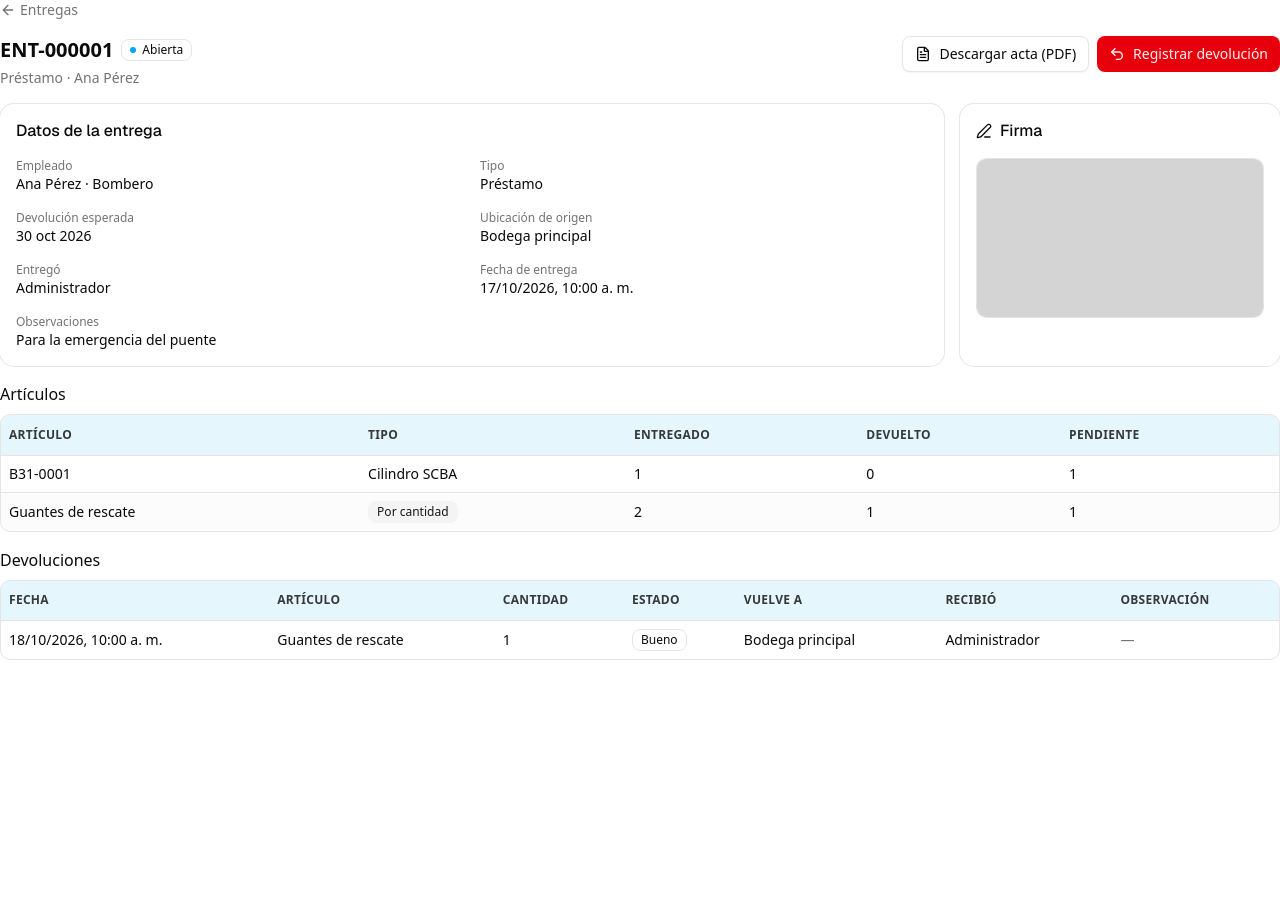
Test: DeliveryDetailScreen (/entregas/[id], 007 US2, US3) › sin artículos marcados no envía
Step 1. Click the button "Registrar devolución" → x=1189, y=54, box [1097, 36, 1279, 72]
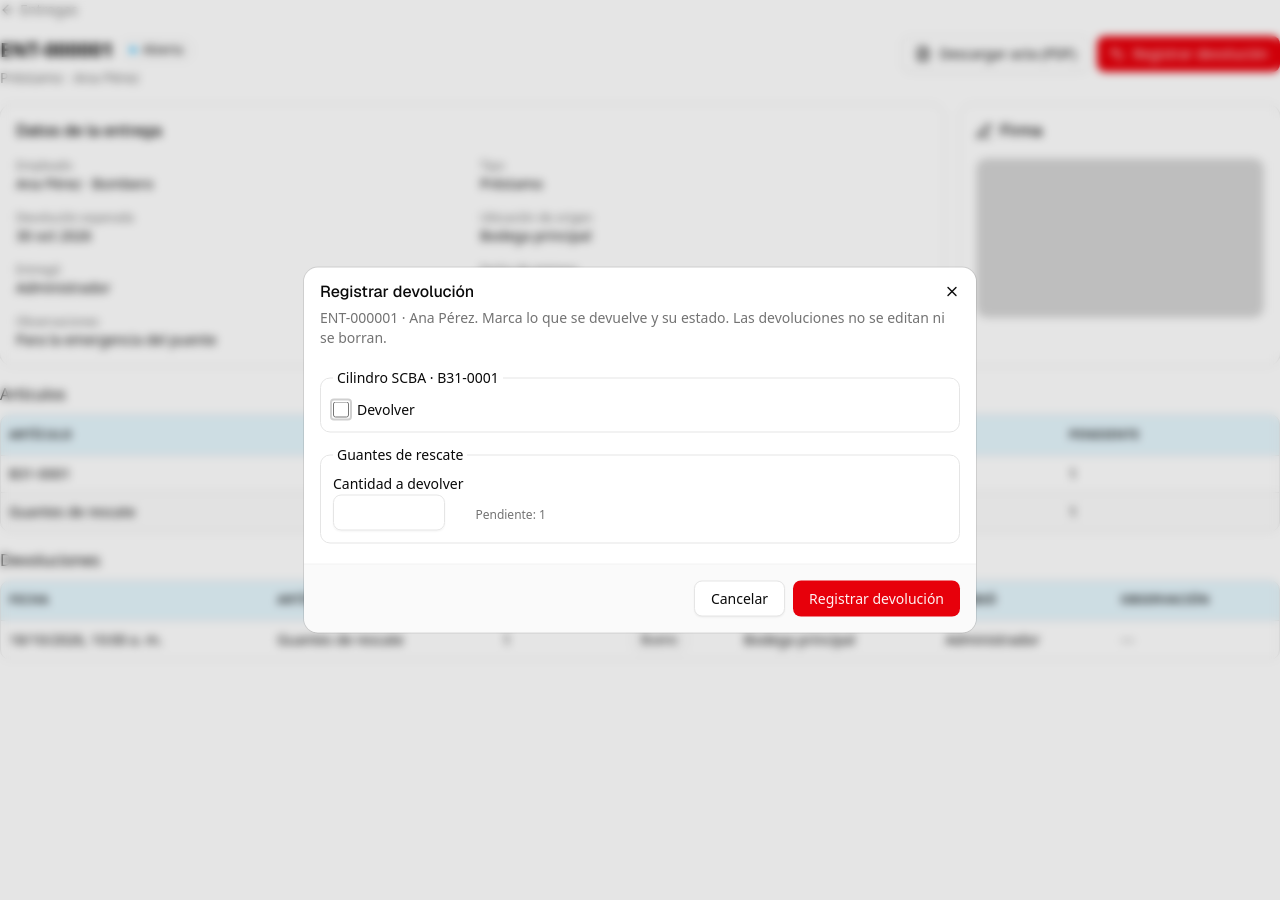
Step 2. Click the button "Registrar devolución" → x=877, y=598, box [793, 580, 960, 616]
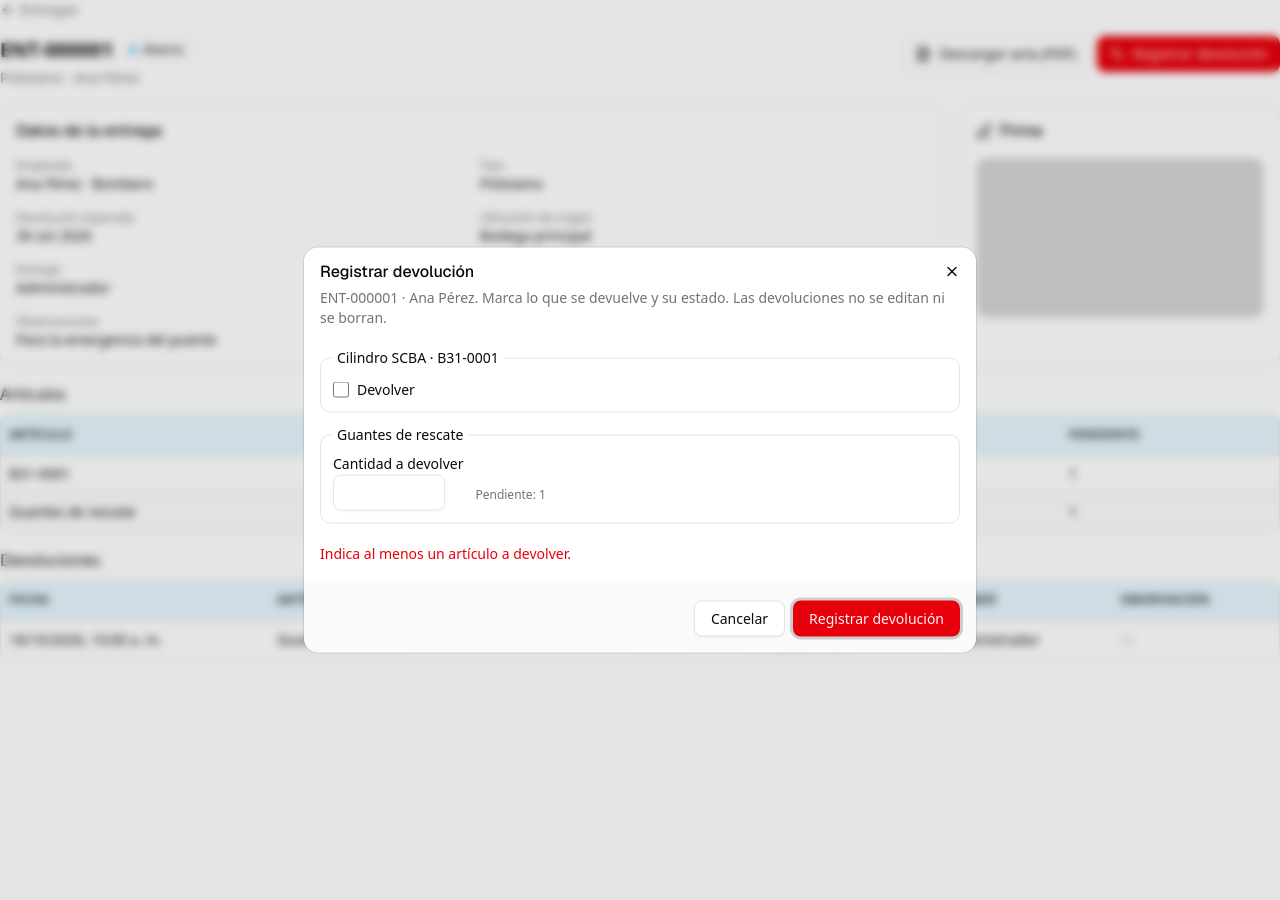
Now the text "Indica al menos un artículo a devolver." is shown, box [320, 544, 571, 562]
